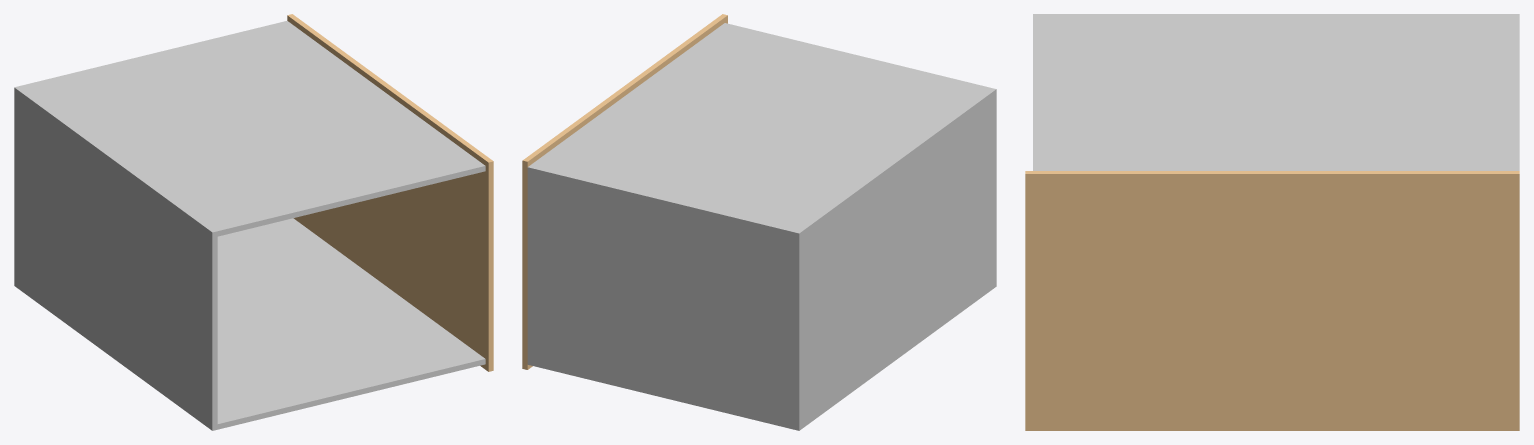
Rendered from CUPBOARD-BODYSET5_link_mesh.dae.
3 renders of one model, left to right at view 1: azimuth 30°, elevation 25°; view 2: azimuth 150°, elevation 25°; view 3: azimuth 270°, elevation 25°, orthographic. The views are drawn at different scales.
Parts seen in each view (by area): view 1: CUPBOARD-BODYSET5_link (×2); view 2: CUPBOARD-BODYSET5_link (×2); view 3: CUPBOARD-BODYSET5_link (×2).
Boxes of the visible parts, <box> form: CUPBOARD-BODYSET5_link (×2): <box>14,14,493,430</box>; CUPBOARD-BODYSET5_link (×2): <box>522,14,996,430</box>; CUPBOARD-BODYSET5_link (×2): <box>1025,14,1519,430</box>.
Bounding box in the file's own units: 0.534 × 0.384 × 0.669.
